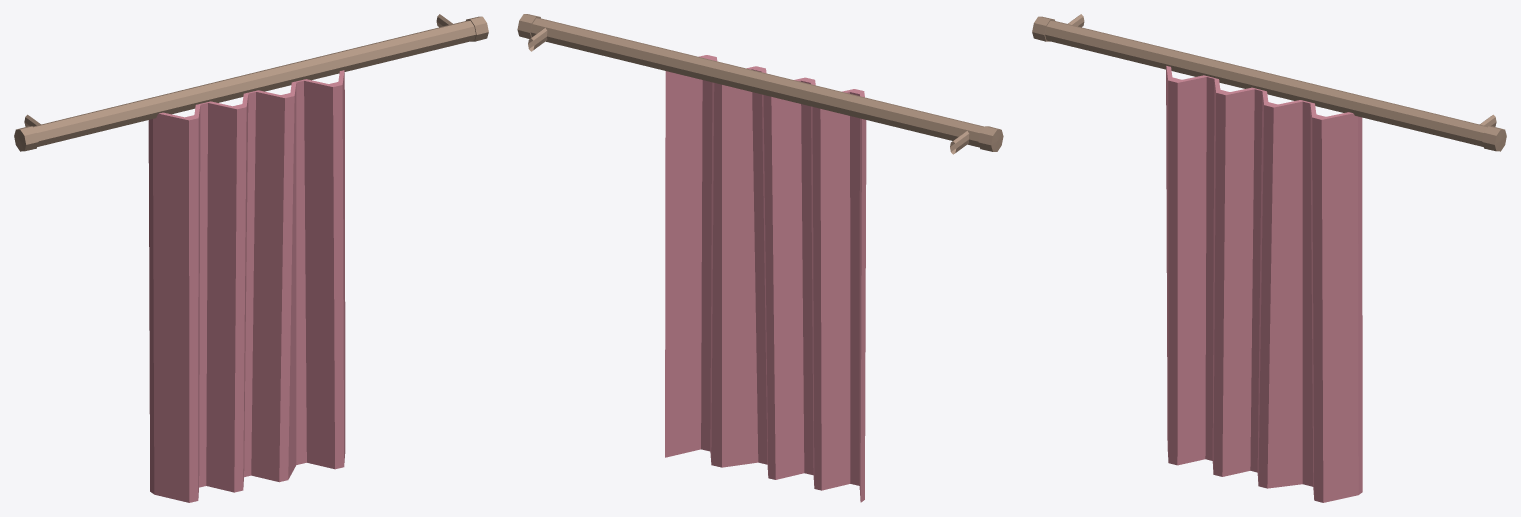
The model's file is Curtains_13.fbx.
3 views of the same model, side by side, from view 1: azimuth 30°, elevation 25°; view 2: azimuth 150°, elevation 25°; view 3: azimuth 330°, elevation 25° (orthographic). The views are drawn at different scales.
Visible parts, largest first — view 1: Curtains_13; view 2: Curtains_13; view 3: Curtains_13.
Boxes of the visible parts, box(x1,y1,x2,y2) form: Curtains_13: box(14, 14, 488, 502); Curtains_13: box(517, 14, 1003, 502); Curtains_13: box(1032, 14, 1506, 502).
Bounding box in the file's own units: 206 × 28.79 × 169.
